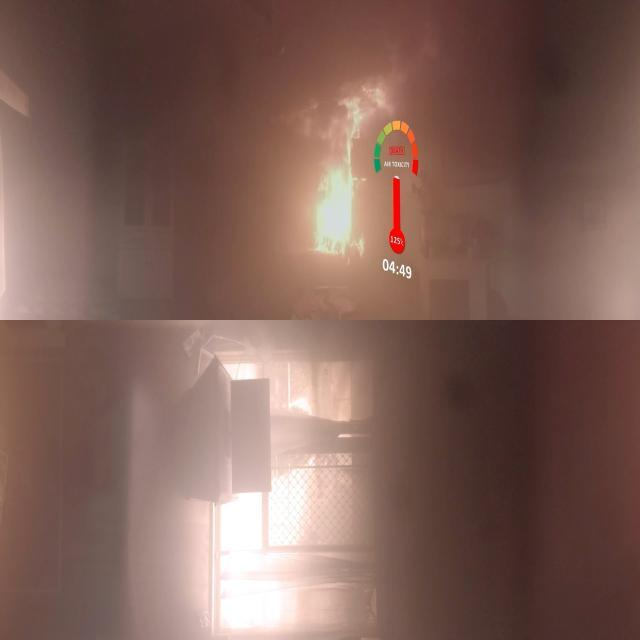Fire: (319, 121, 366, 255)
